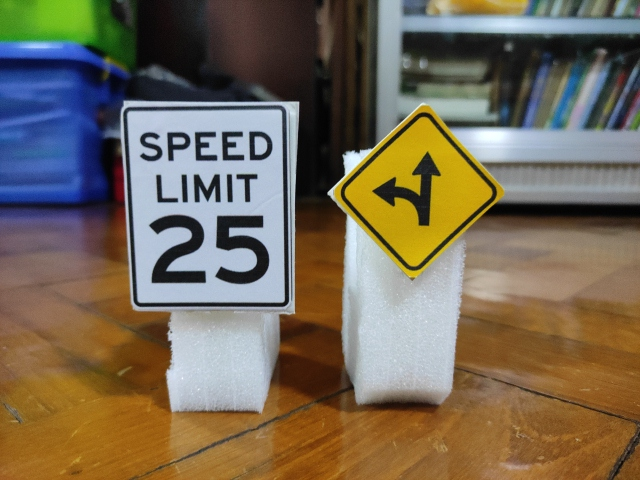Speed Limit 25: (120, 100, 296, 309)
Straight Or Left Sign: (336, 107, 502, 274)
